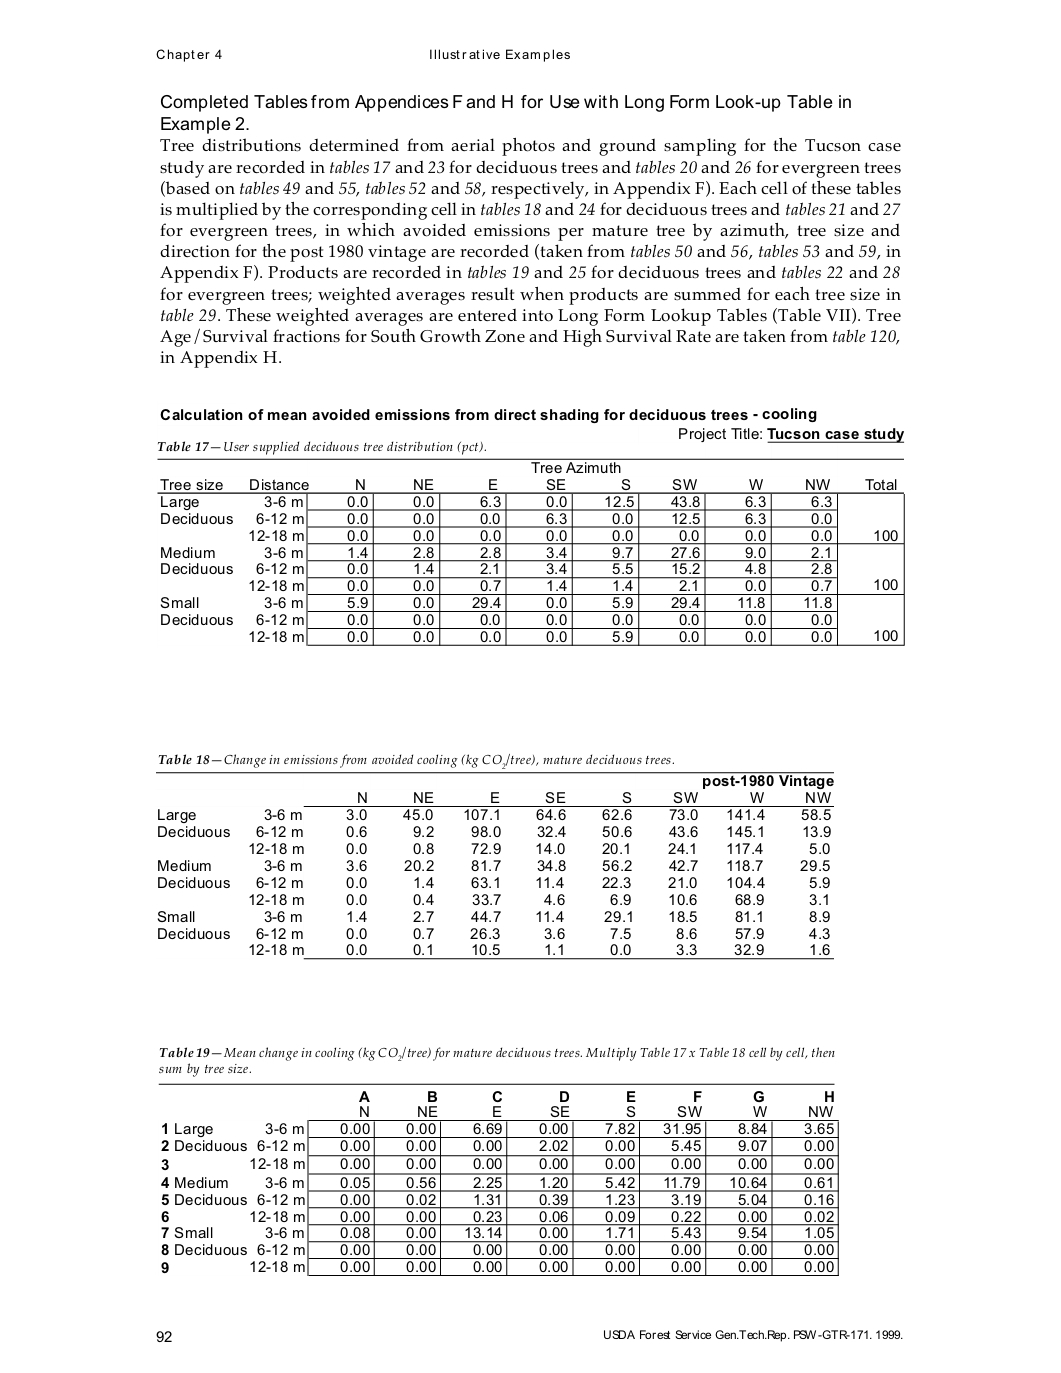Table: (157, 458, 904, 645), (158, 1083, 838, 1275), (156, 772, 833, 960)
